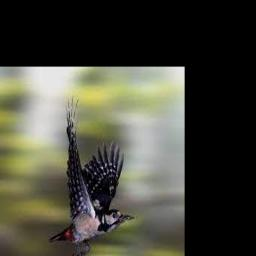Woodpecker: (48, 95, 134, 256)
